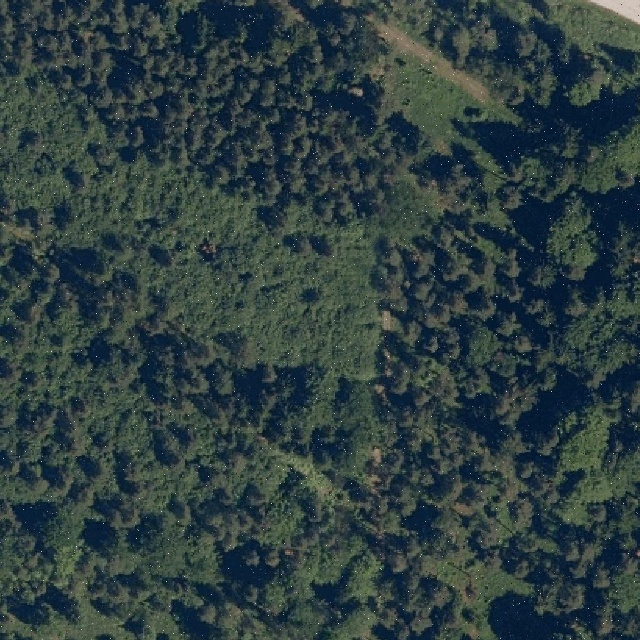vegetation: (1, 1, 640, 638)
